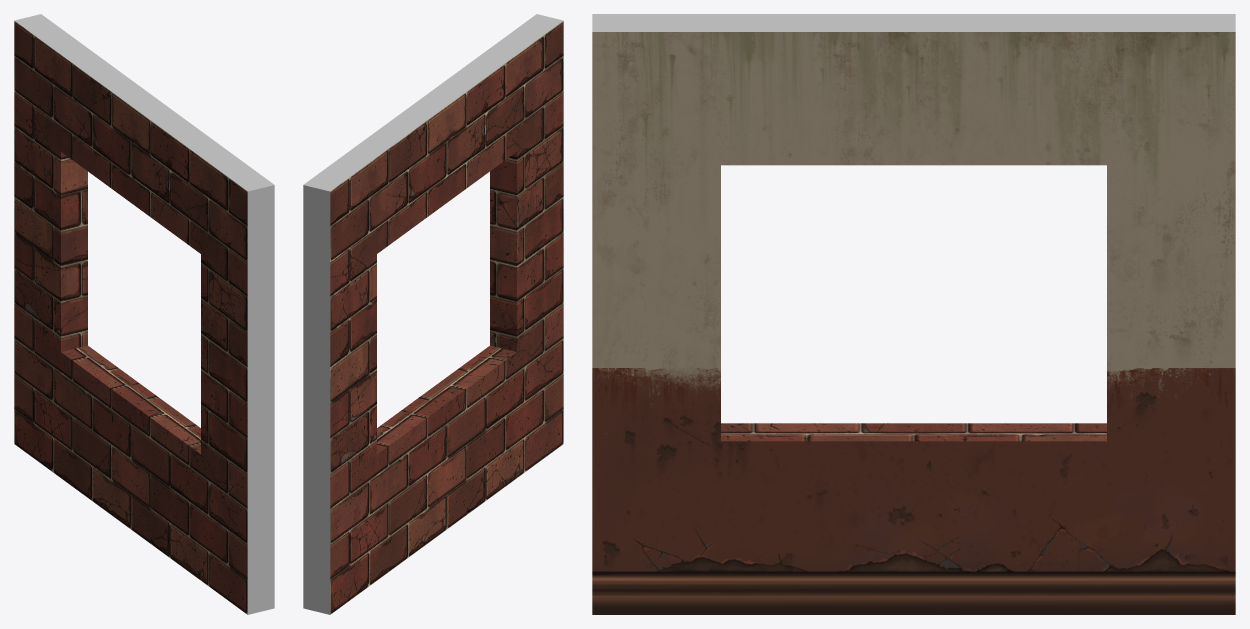
File: wall01_window2m_B.fbx
3 views of the same model, side by side, from view 1: azimuth 30°, elevation 25°; view 2: azimuth 150°, elevation 25°; view 3: azimuth 270°, elevation 25° (orthographic). The views are drawn at different scales.
Parts seen in each view (by area): view 1: wall01_window2m_B; view 2: wall01_window2m_B; view 3: wall01_window2m_B.
Part boxes in pixels (box(x1,y1,x2,y2)): wall01_window2m_B: box(14, 14, 274, 614); wall01_window2m_B: box(303, 14, 563, 614); wall01_window2m_B: box(592, 14, 1235, 614).
Size of the model in its own units: 20 by 300 by 300.
